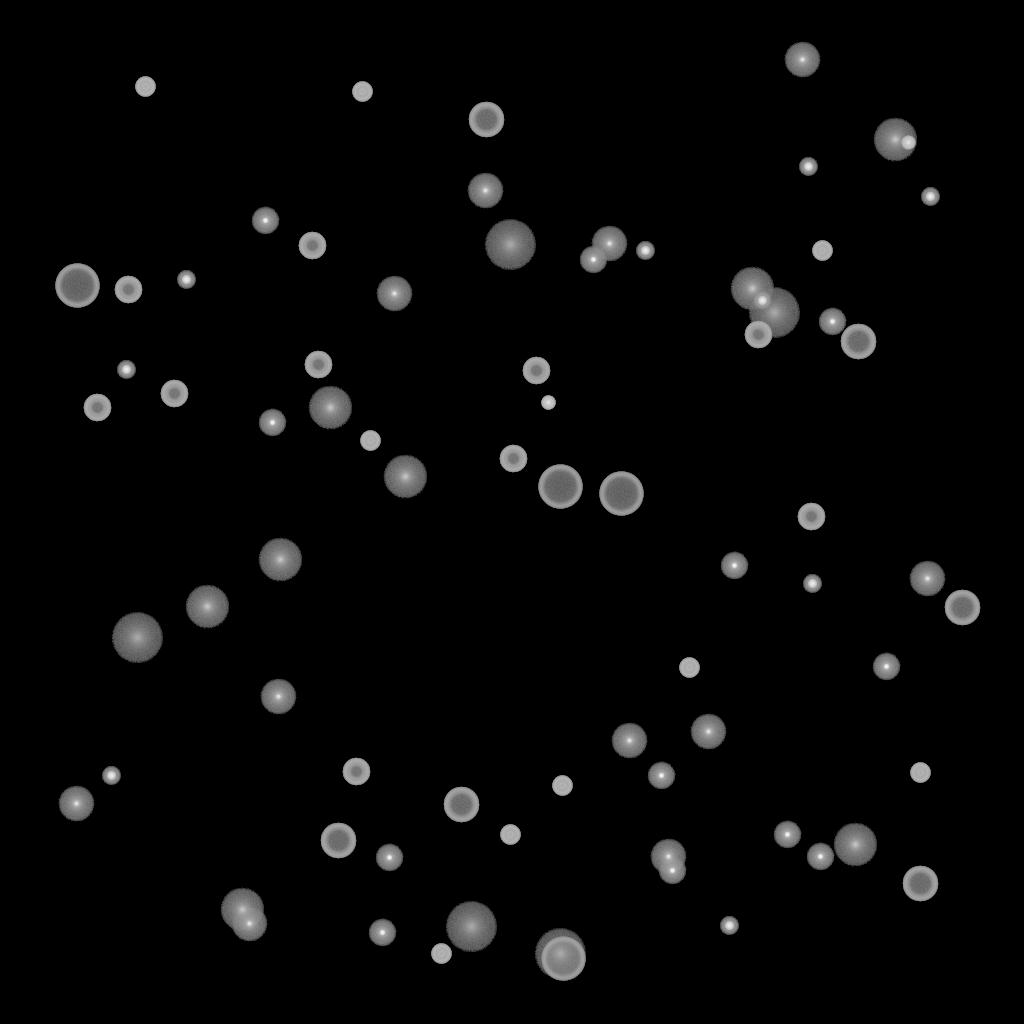depth:-10: (647, 762, 675, 790), (658, 857, 686, 885), (251, 207, 279, 235), (818, 308, 846, 336), (375, 844, 403, 872), (258, 409, 286, 437), (579, 246, 607, 274), (872, 653, 900, 681), (720, 552, 748, 580), (806, 843, 834, 871), (773, 821, 801, 849), (368, 919, 396, 947)
depth:-20: (636, 242, 654, 260), (177, 271, 195, 289), (921, 188, 939, 206), (720, 917, 738, 935), (753, 292, 771, 310), (799, 158, 817, 176), (803, 575, 821, 593), (102, 767, 120, 785), (117, 361, 135, 379)
depth:-30: (541, 396, 555, 410), (901, 136, 915, 150)
depth:-40: (360, 431, 380, 451), (352, 82, 372, 102), (500, 825, 520, 845), (135, 77, 155, 97), (431, 944, 451, 964), (812, 241, 832, 261), (910, 763, 930, 783), (679, 658, 699, 678), (552, 776, 572, 796)
depth:-50: (499, 445, 527, 473), (114, 276, 142, 304), (522, 357, 550, 385), (797, 503, 825, 531), (304, 351, 332, 379), (160, 380, 188, 408), (298, 232, 326, 260), (342, 758, 370, 786), (83, 394, 111, 422), (744, 321, 772, 349)
depth:-60: (840, 324, 876, 360), (944, 590, 980, 626), (443, 787, 479, 823), (902, 866, 938, 902), (320, 823, 356, 859), (468, 102, 504, 138)
depth:-70: (538, 465, 582, 509), (541, 937, 585, 981), (599, 472, 643, 516), (55, 264, 99, 308)
depth:0: (260, 679, 296, 715), (784, 42, 820, 78), (58, 786, 94, 822), (650, 839, 686, 875), (591, 226, 627, 262), (909, 561, 945, 597), (611, 723, 647, 759), (376, 276, 412, 312), (231, 906, 267, 942), (690, 714, 726, 750), (467, 173, 503, 209)
depth:10: (185, 585, 229, 629), (383, 455, 427, 499), (308, 386, 352, 430), (873, 118, 917, 162), (730, 267, 774, 311), (833, 823, 877, 867), (258, 538, 302, 582), (220, 888, 264, 932)
depth:20: (534, 929, 586, 979), (748, 288, 800, 338), (111, 613, 163, 663), (445, 902, 497, 952), (484, 220, 536, 270)
